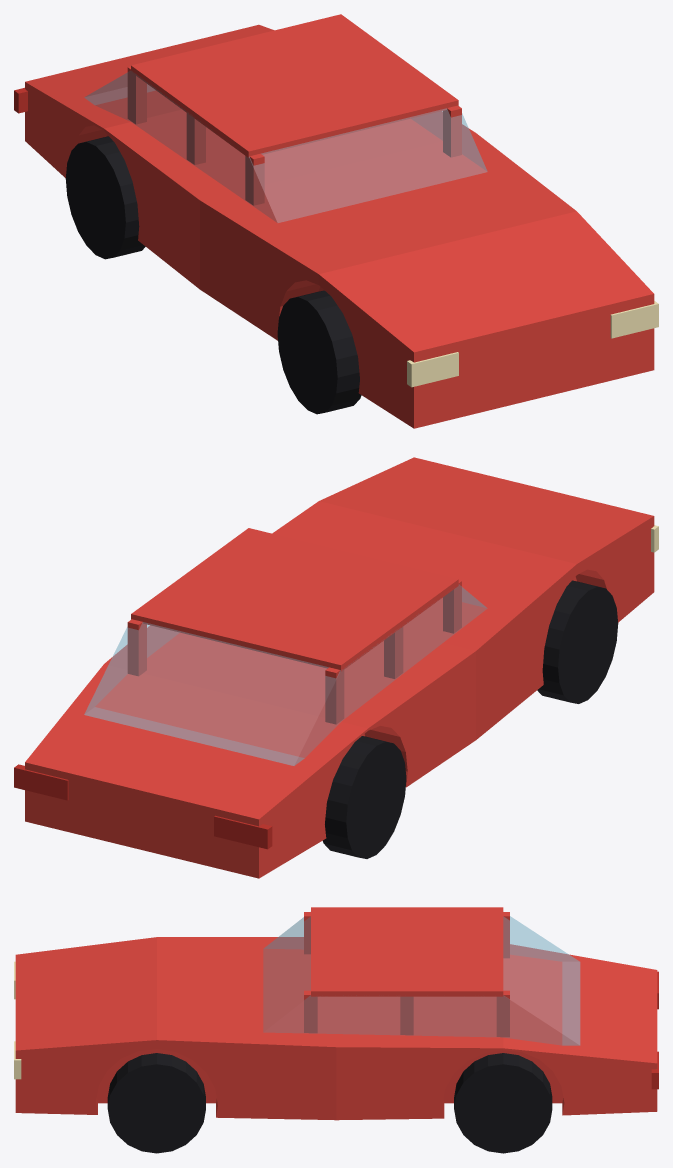
File: coupe.glb
3 renders of one model, top to bottom at view 1: azimuth 30°, elevation 25°; view 2: azimuth 150°, elevation 25°; view 3: azimuth 270°, elevation 25°, orthographic. The views are drawn at different scales.
Parts seen in each view (by area): view 1: body, cabin_roof, cabin_glass, wheel_FR_tyre, wheel_RR_tyre, head_L, head_R, pillar_front_L, pillar_rear_L, pillar_front_R, pillar_mid_L; view 2: body, cabin_glass, cabin_roof, wheel_RR_tyre, wheel_FR_tyre, tail_L, tail_R, pillar_rear_L, pillar_rear_R, pillar_mid_L, pillar_front_L; view 3: body, cabin_glass, cabin_roof, wheel_RL_tyre, wheel_FL_tyre, pillar_rear_R, pillar_front_R, pillar_mid_R.
Part boxes in pixels (x1,y1,x2,y2): body: (25,24,654,428); cabin_roof: (131,14,458,157); cabin_glass: (84,71,487,222); wheel_FR_tyre: (277,290,361,414); wheel_RR_tyre: (65,136,145,259); head_L: (407,352,458,387); head_R: (610,301,658,338); pillar_front_L: (245,153,264,205); pillar_rear_L: (127,66,146,124); pillar_front_R: (443,105,461,157); pillar_mid_L: (186,113,205,164); body: (25,457,654,878); cabin_glass: (84,584,487,765); cabin_roof: (131,528,458,671); wheel_RR_tyre: (323,736,406,858); wheel_FR_tyre: (537,580,618,703); tail_L: (214,815,272,849); tail_R: (14,764,68,800); pillar_rear_L: (325,667,344,724); pillar_rear_R: (127,619,146,676); pillar_mid_L: (384,627,403,678); pillar_front_L: (443,580,461,633); body: (15,937,657,1120); cabin_glass: (263,916,580,1045); cabin_roof: (311,907,503,996); wheel_RL_tyre: (454,1053,552,1153); wheel_FL_tyre: (107,1053,205,1153); pillar_rear_R: (496,990,509,1037); pillar_front_R: (304,990,317,1033); pillar_mid_R: (400,996,413,1035).
Bounding box in the file's own units: 1.78 × 1.1 × 4.32.
